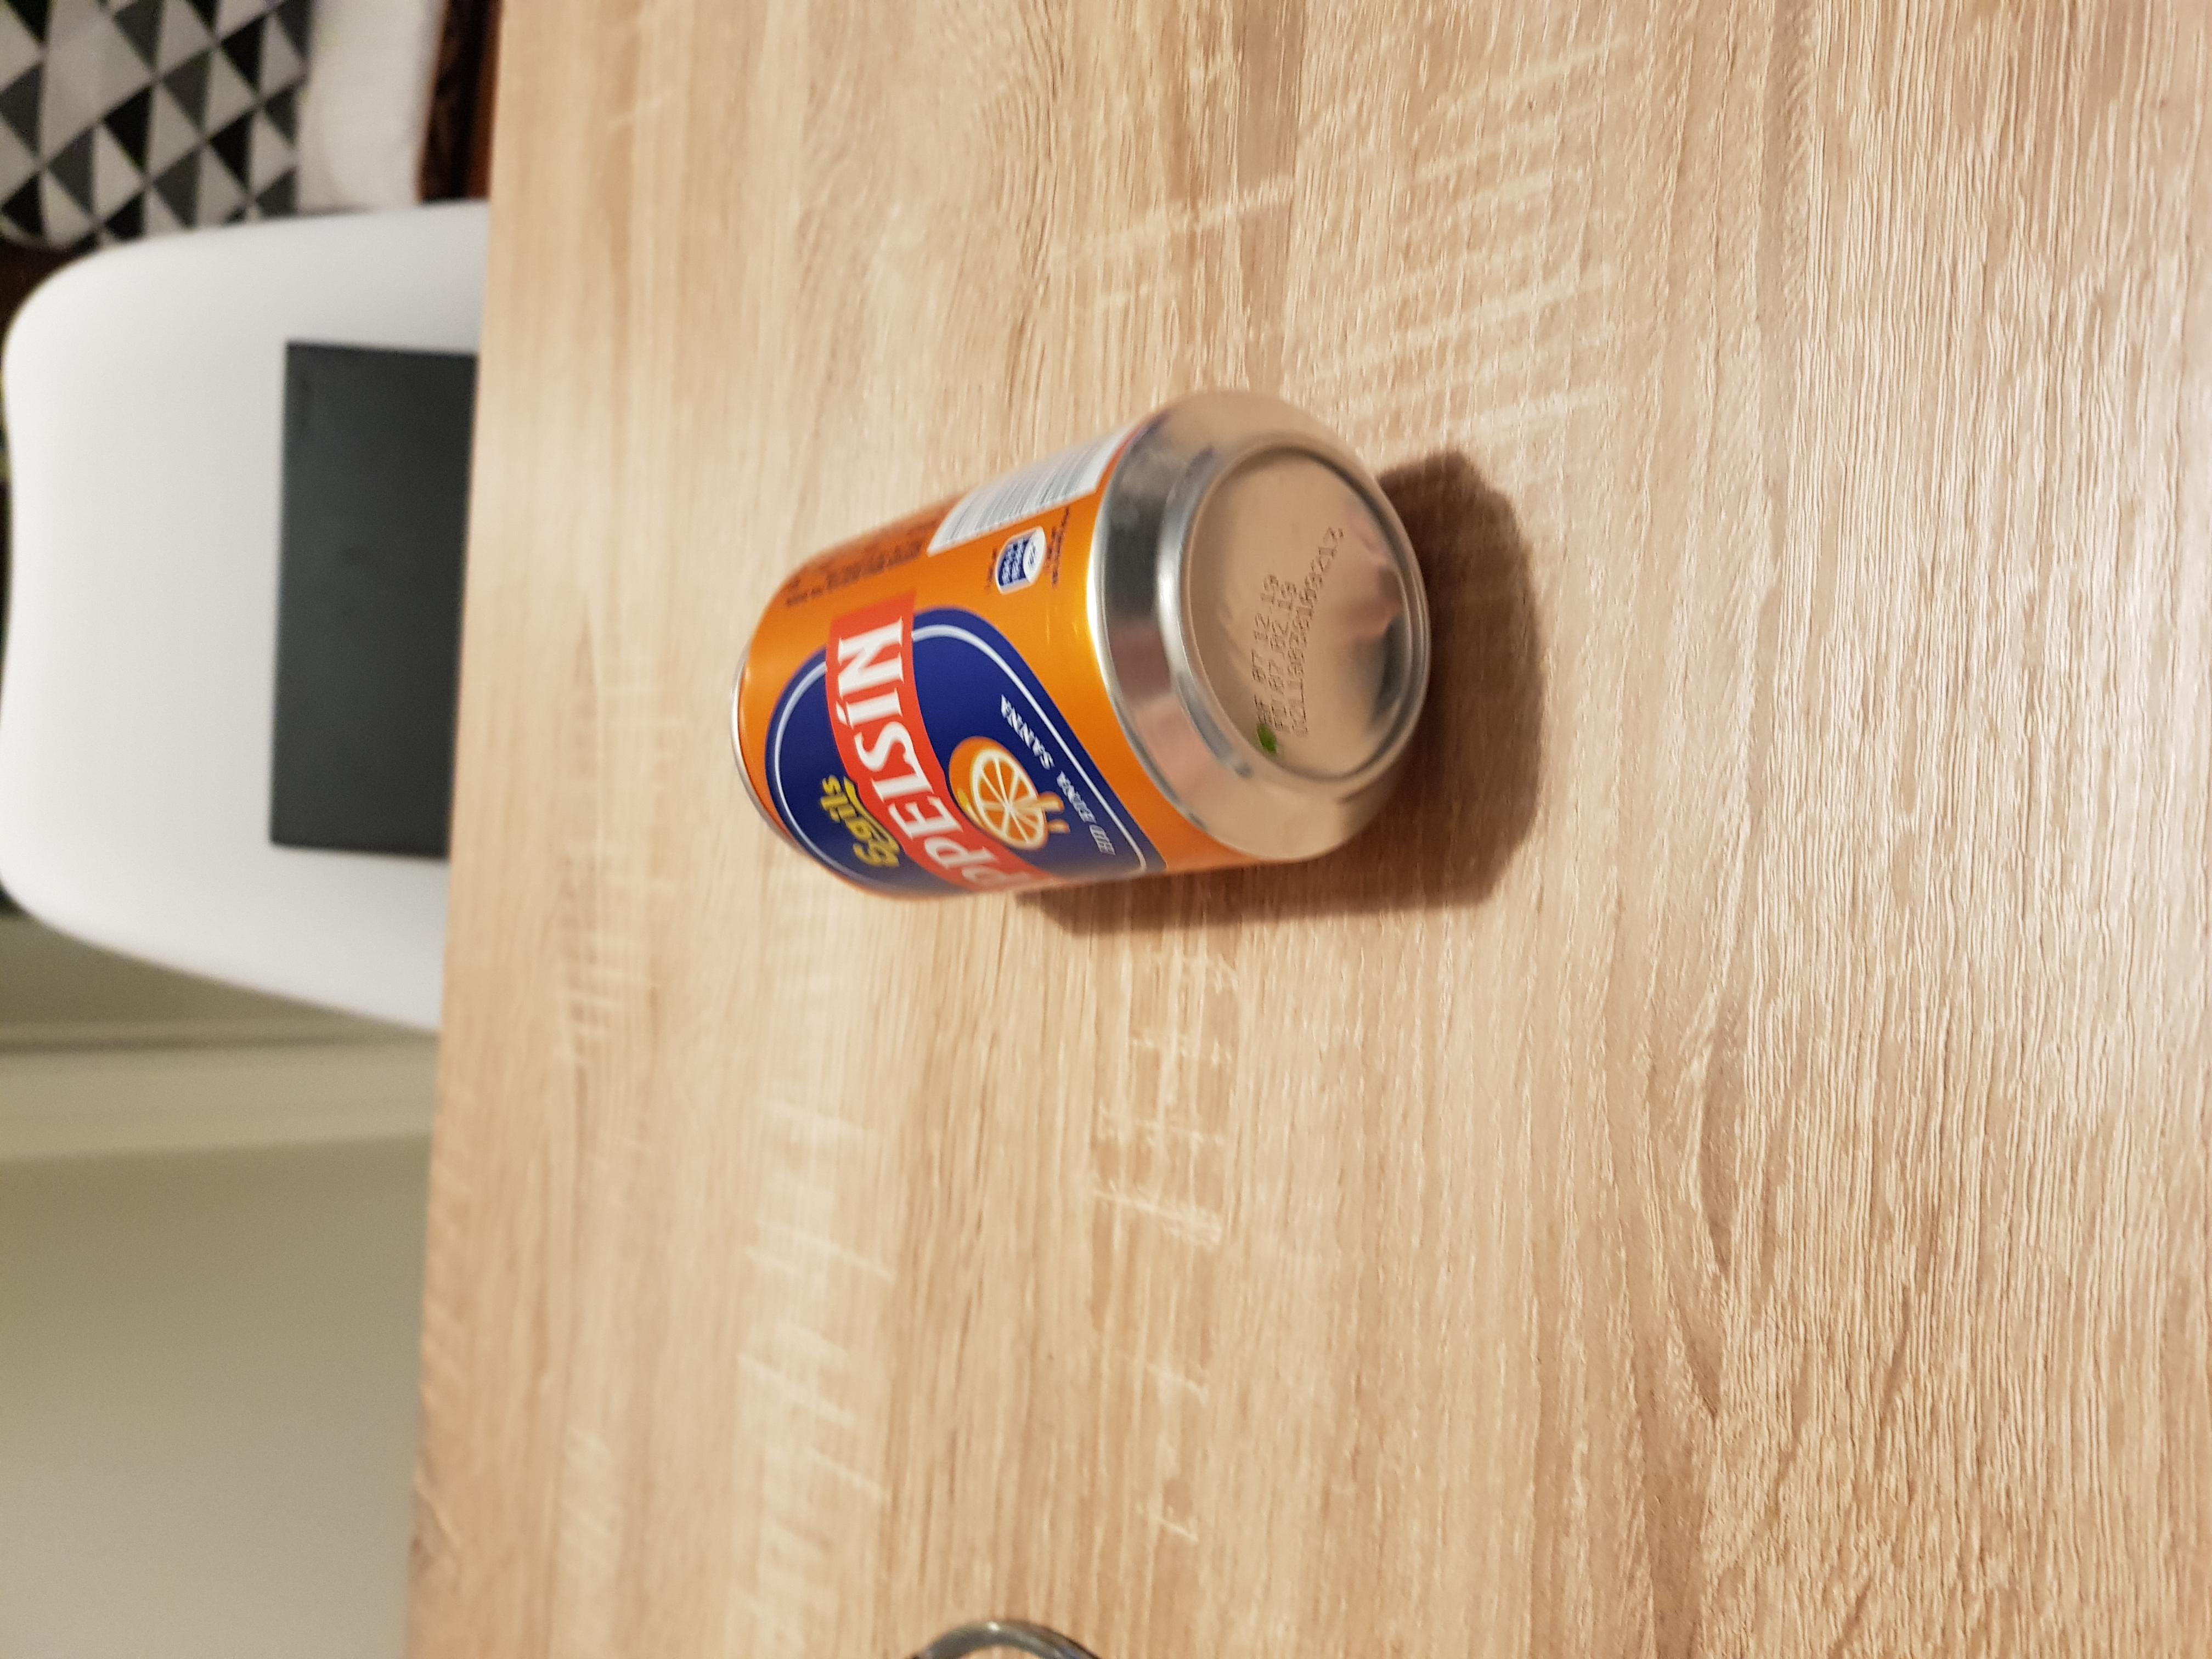can: (721, 376, 1432, 901)
